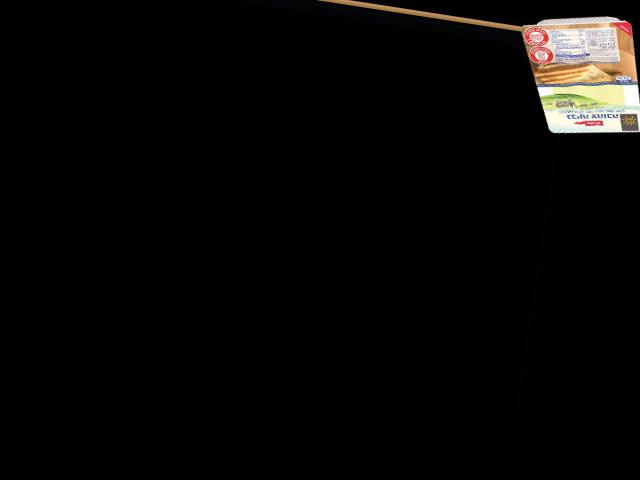cheese: (526, 9, 640, 143)
